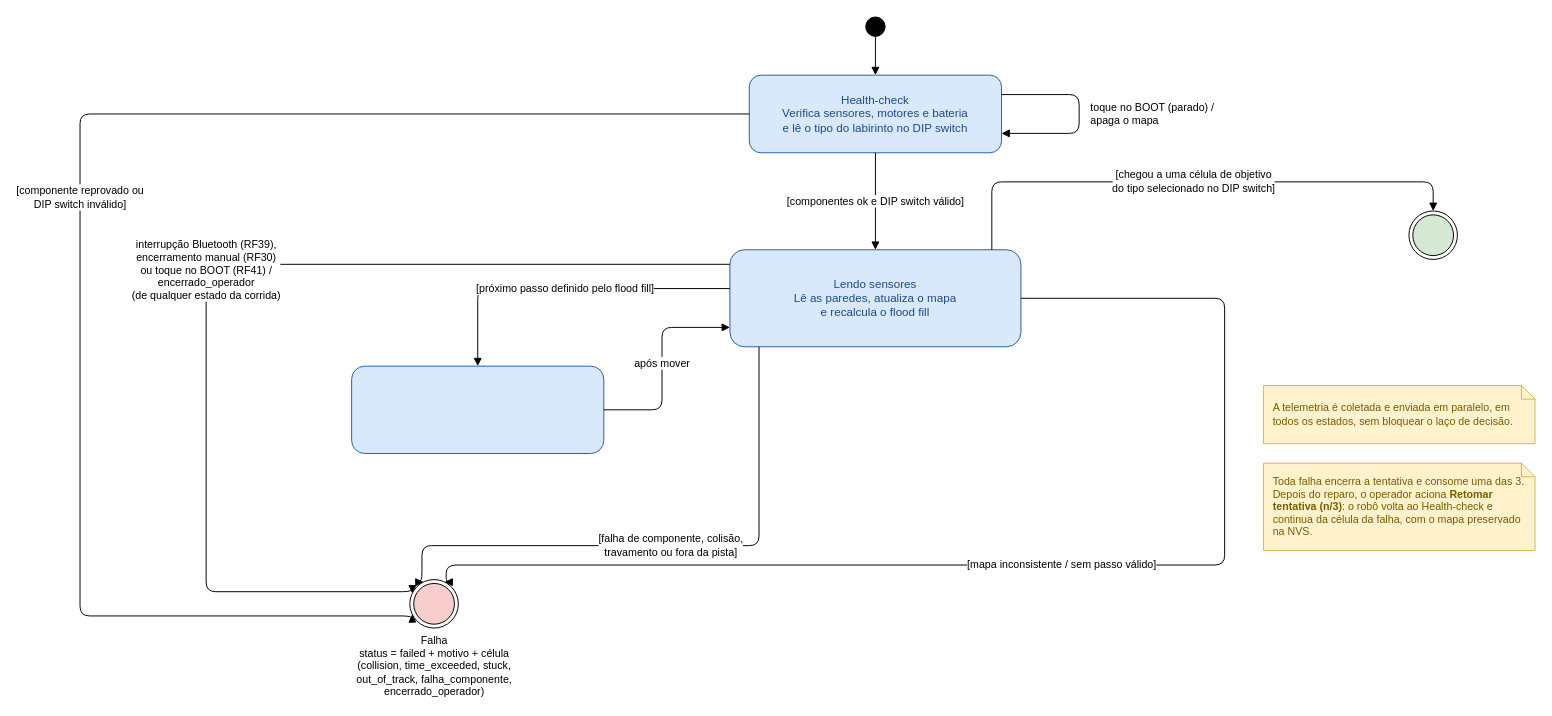
Some shapes in this 1552 by 716 pixel diagram are drawn without their labels. Each missing label, with the centre of its shape:
"Deslocando Move para a vizinha de menor distância e grava mapa e posição na NVS" goes at (477,409).
"Objetivo alcançado status = success" goes at (1432,234).
